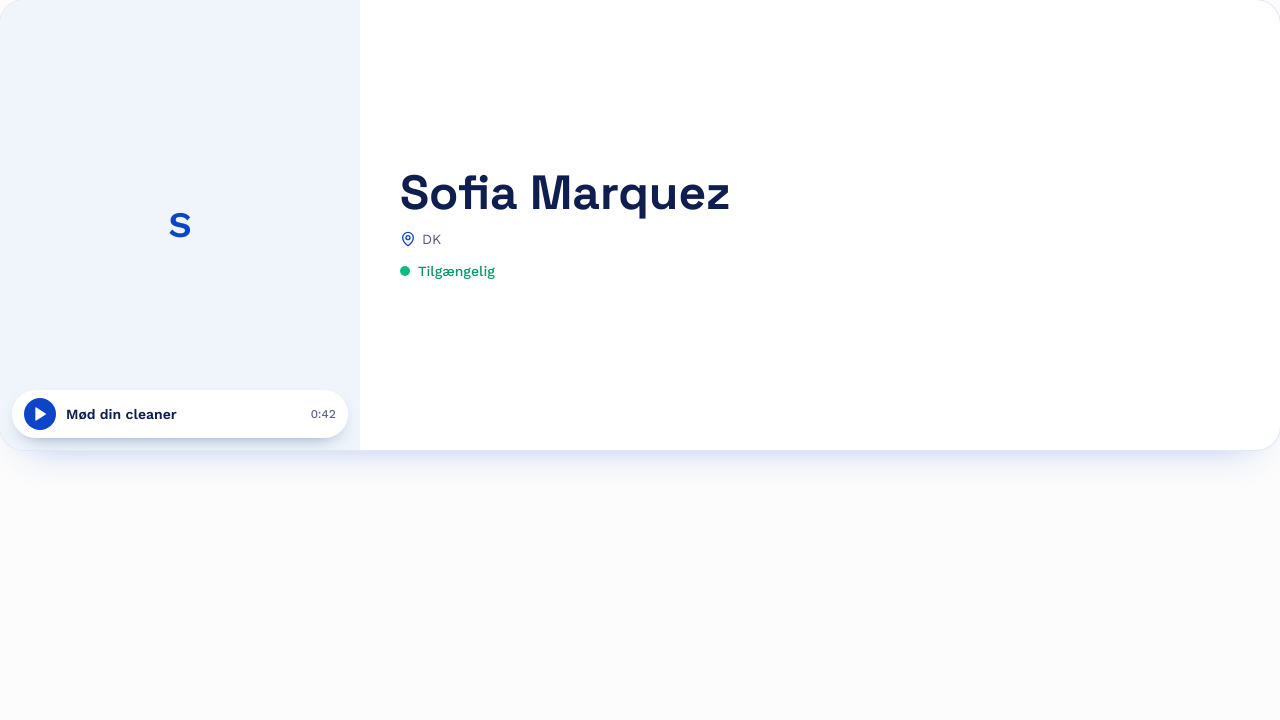
Scenario: intro video dialog › shows a safe fallback when the video URL is missing
Click the button with test id "intro-video-trigger".
click(40, 414)  # box [12,390,348,438]
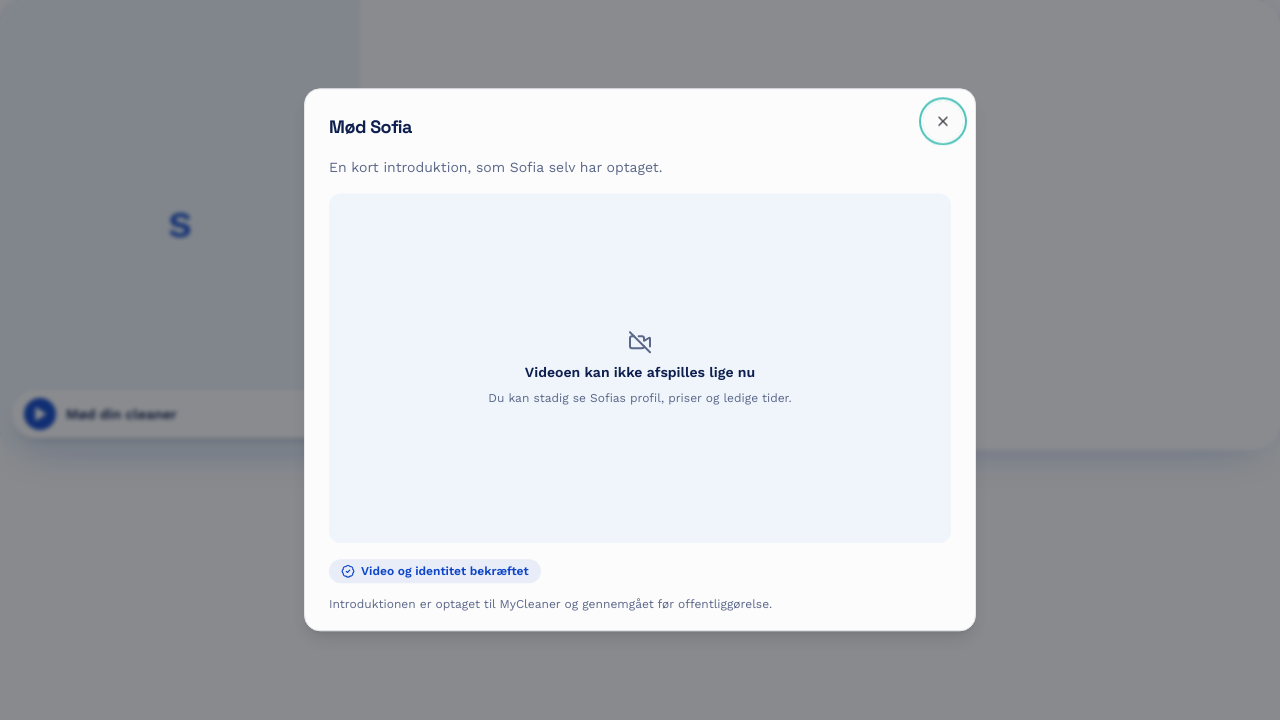
Expected: the element with test id "intro-video-fallback" is shown, [329,193,951,543]
